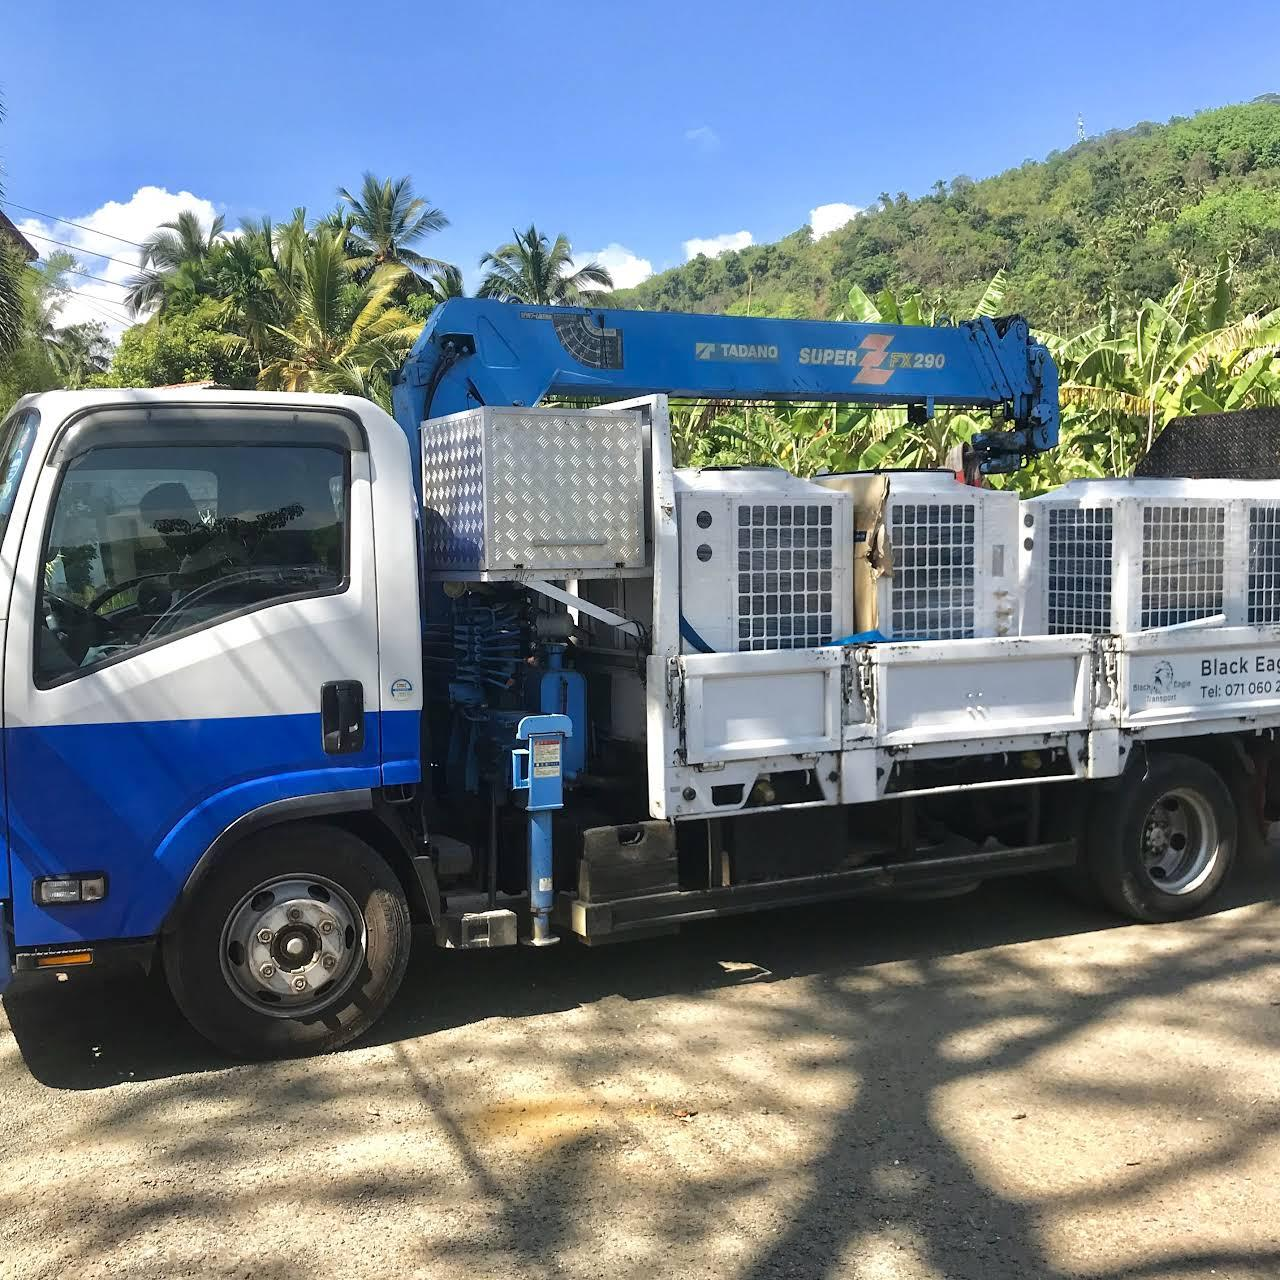truck: (1, 297, 1280, 1060)
